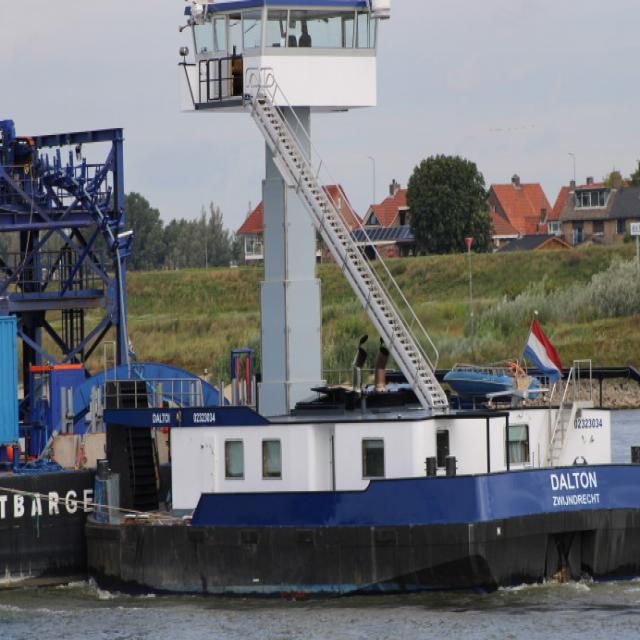tugboat: (80, 1, 640, 607)
